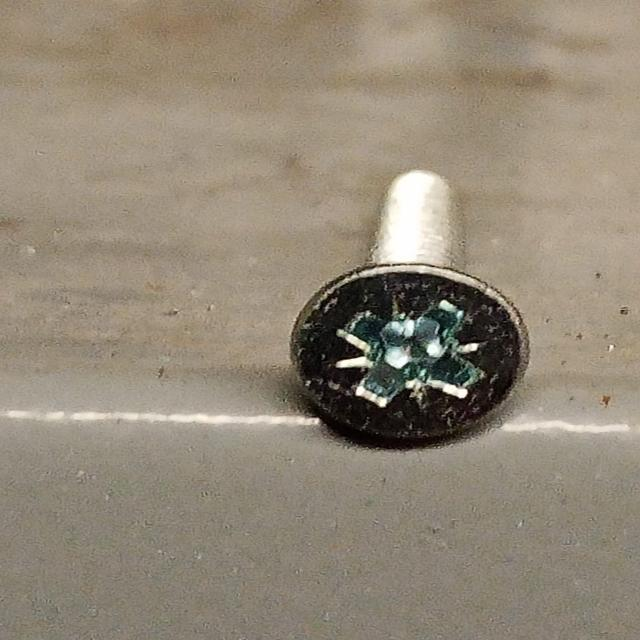pozidriv: (289, 262, 531, 447)
